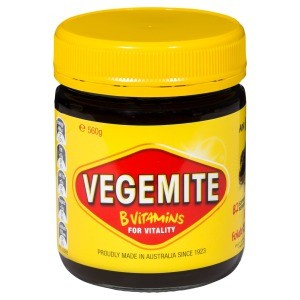yeast spread_brain food: (65, 114, 236, 236)
